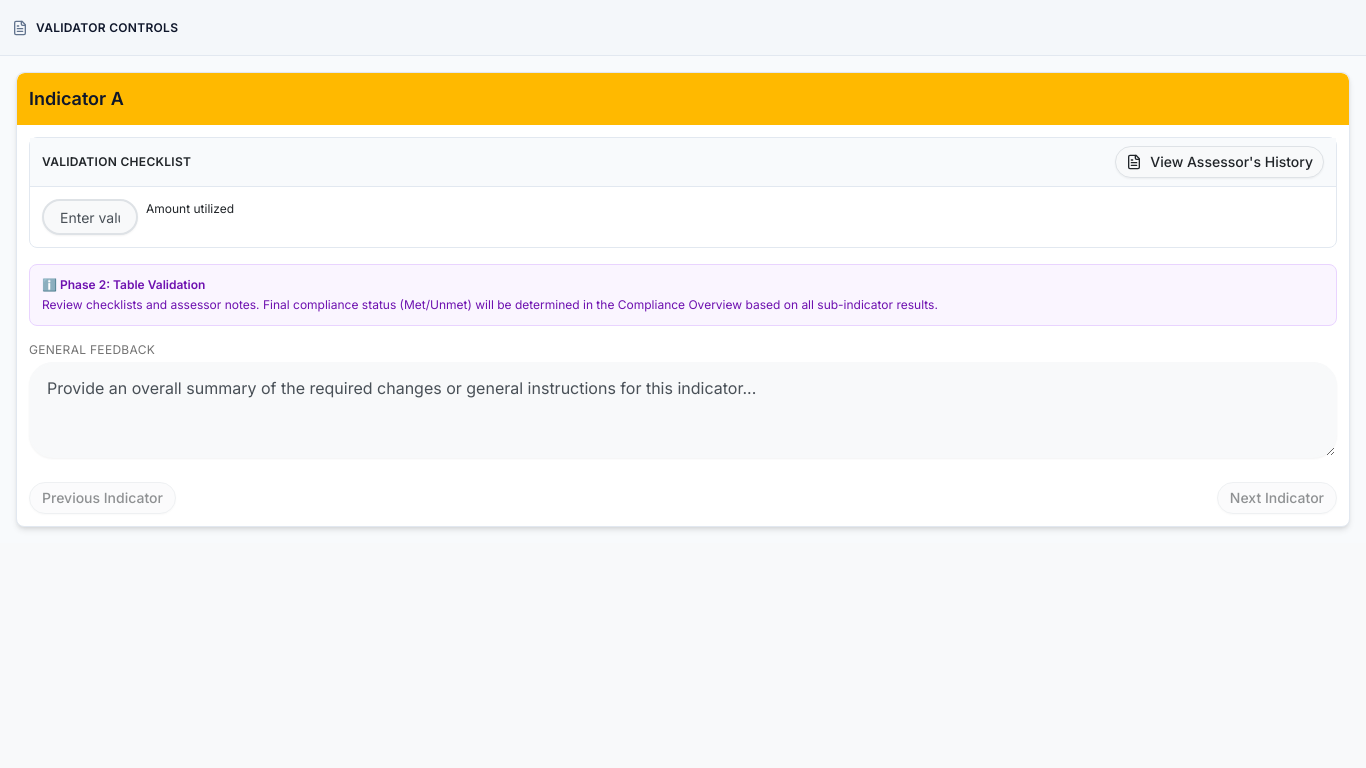
Scenario: RightAssessorPanel › filters non-numeric characters from validator calculation inputs
The width and height of the screenshot is (1366, 768).
Type "12ab3.4$5" into the field with placeholder "Enter value" at (90, 217), box [42,199,138,235]
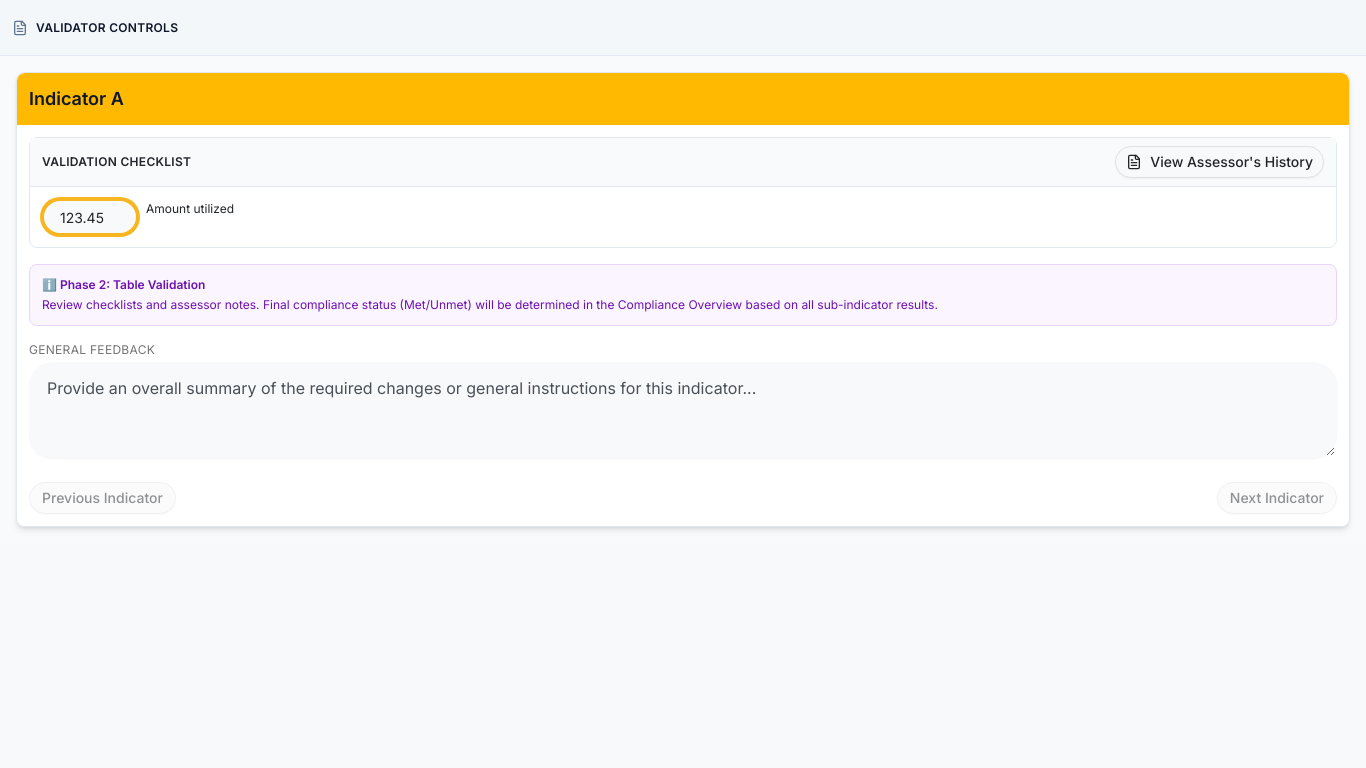
Now the field with placeholder "Enter value" holds "123.45", box [42,199,138,235]
